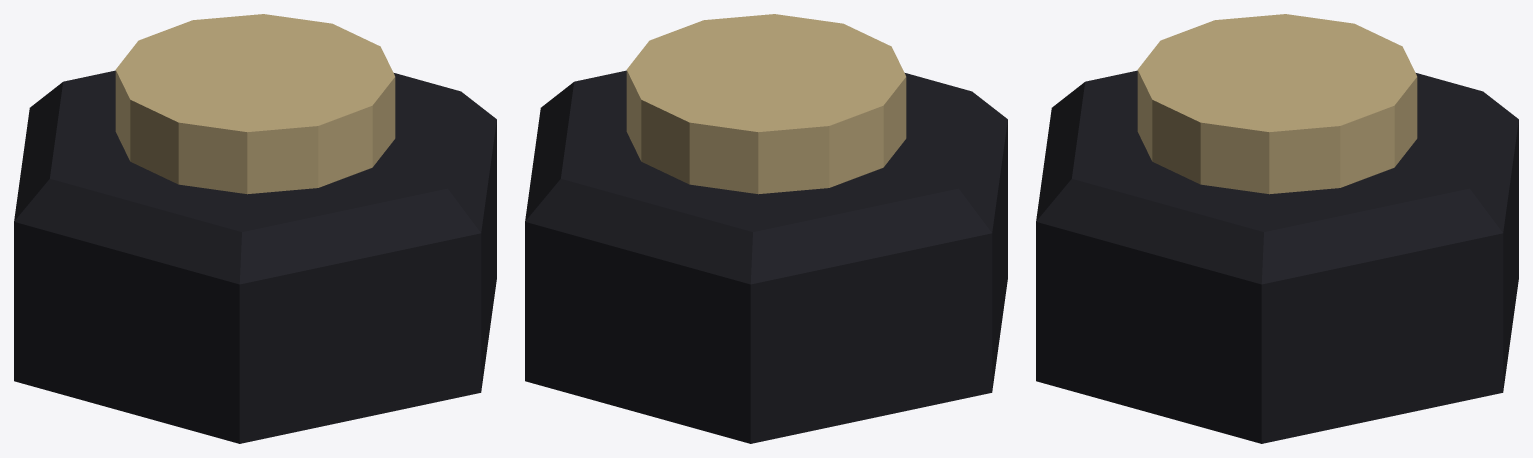
File: front_left_nut.obj
The picture shows the model from 3 angles, left to right: view 1: azimuth 30°, elevation 25°; view 2: azimuth 150°, elevation 25°; view 3: azimuth 270°, elevation 25°; orthographic projection.
Bounding box in the file's own units: 0.00552 × 0.0029 × 0.00494.
Materials: 1 (1 with a texture image).
